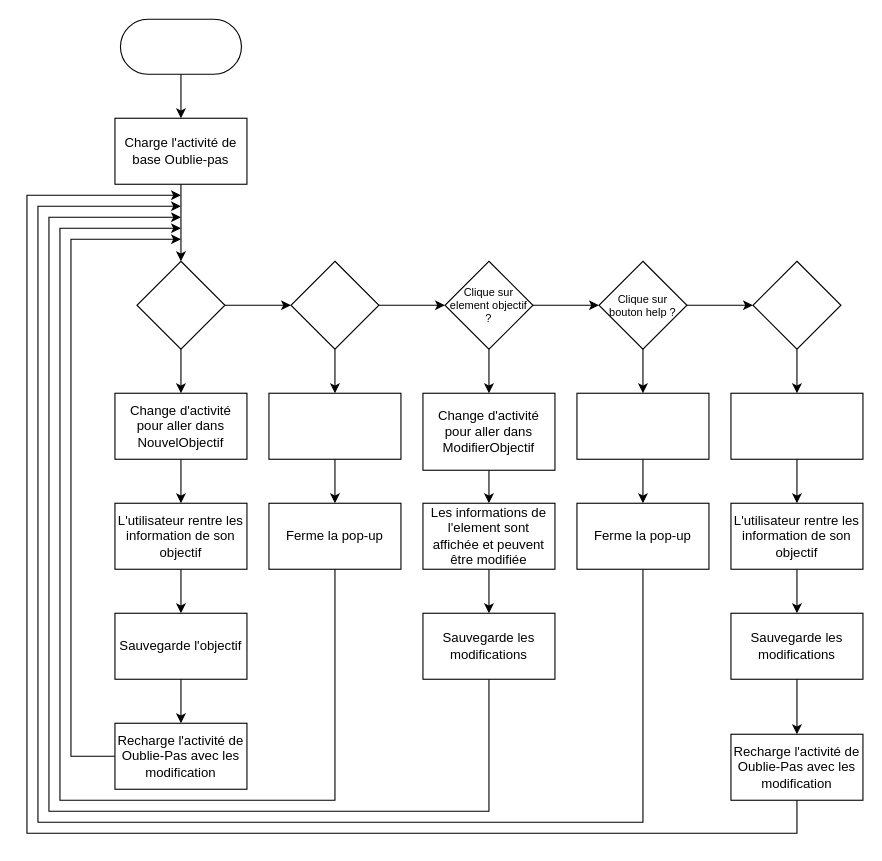
This 882x861 diagram has some shape labels left out. Here are the shapes that lost their labels. From the top down, the centre of each, then its label:
point 180,46: Start
point 180,304: Clique sur bouton ajouter un rappel ?
point 334,304: Clique sur bouton Trier ?
point 796,304: Clique sur bouton Paramètres ?
point 334,425: Affiche une pop-up qui permet de selectionner comment sont trier les objectifs
point 642,425: Affiche une pop-up d'aide qui explique comment utiliser l'application
point 796,425: Change d'activité pour aller dans paramètre
